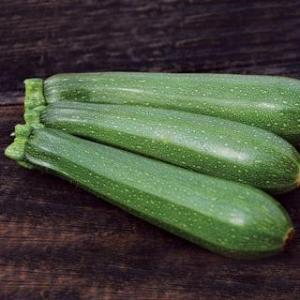zucchini: (4, 120, 298, 260), (12, 100, 300, 190), (22, 54, 294, 112)
